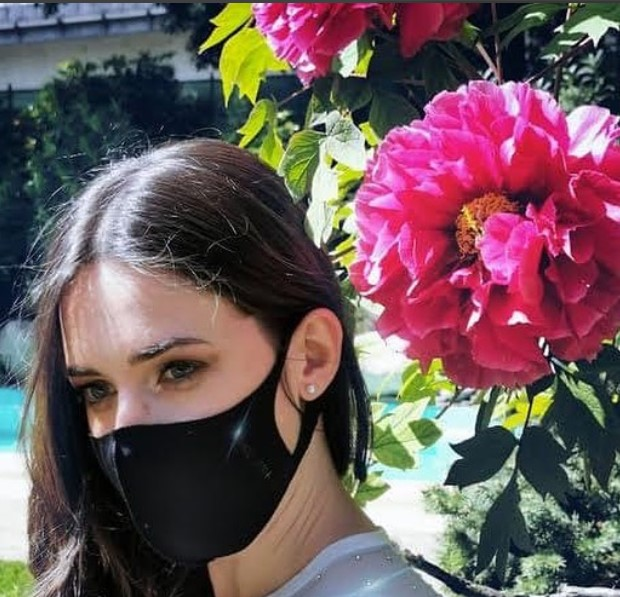face_with_mask: (59, 145, 346, 561)
